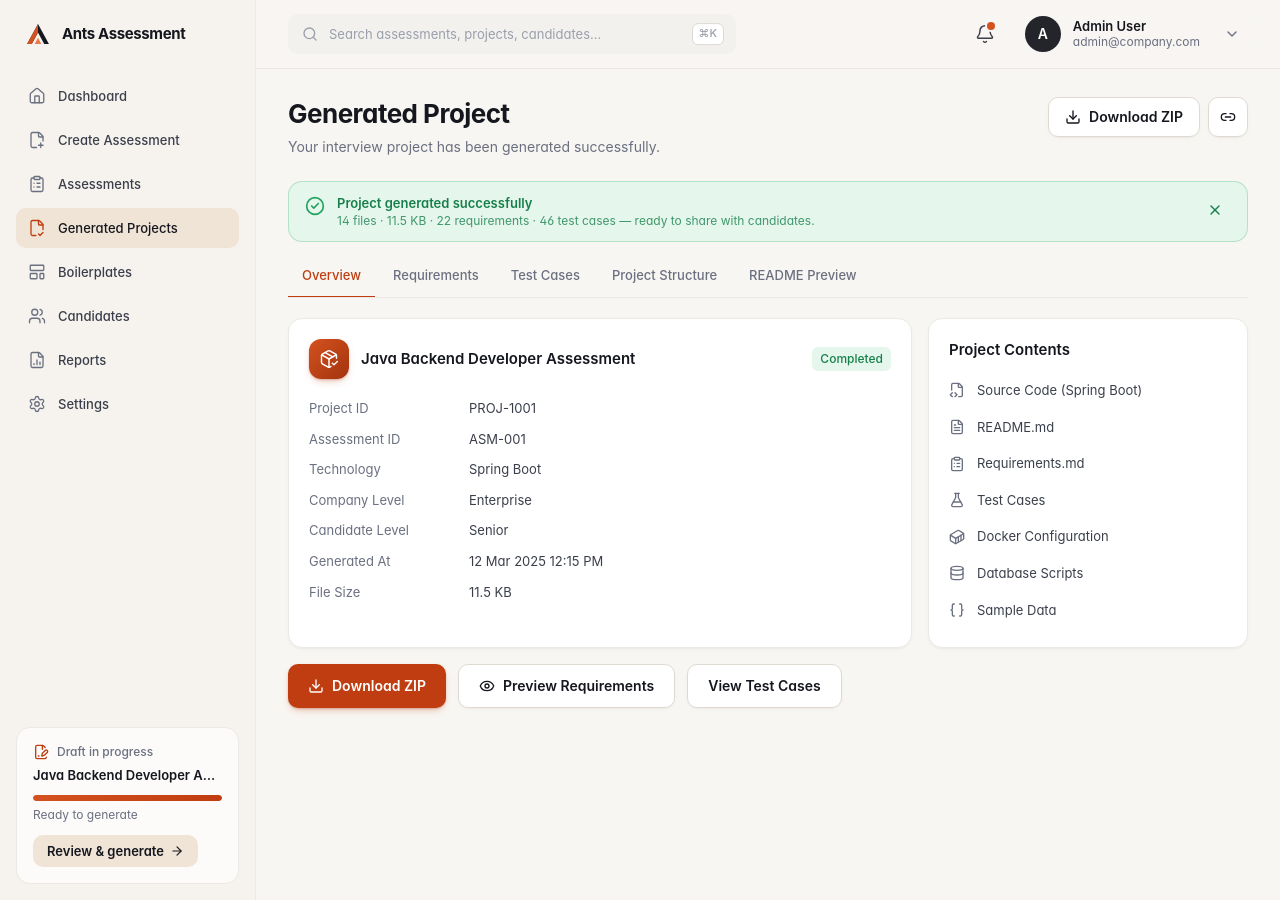
it: Generated Project Details › shows the success banner right after generation
Check: the message shows "Project generated successfully", box left=337, top=195, right=532, bottom=211
Step 1. Click the button named "Dismiss" → (1215, 210), box left=1199, top=194, right=1231, bottom=226
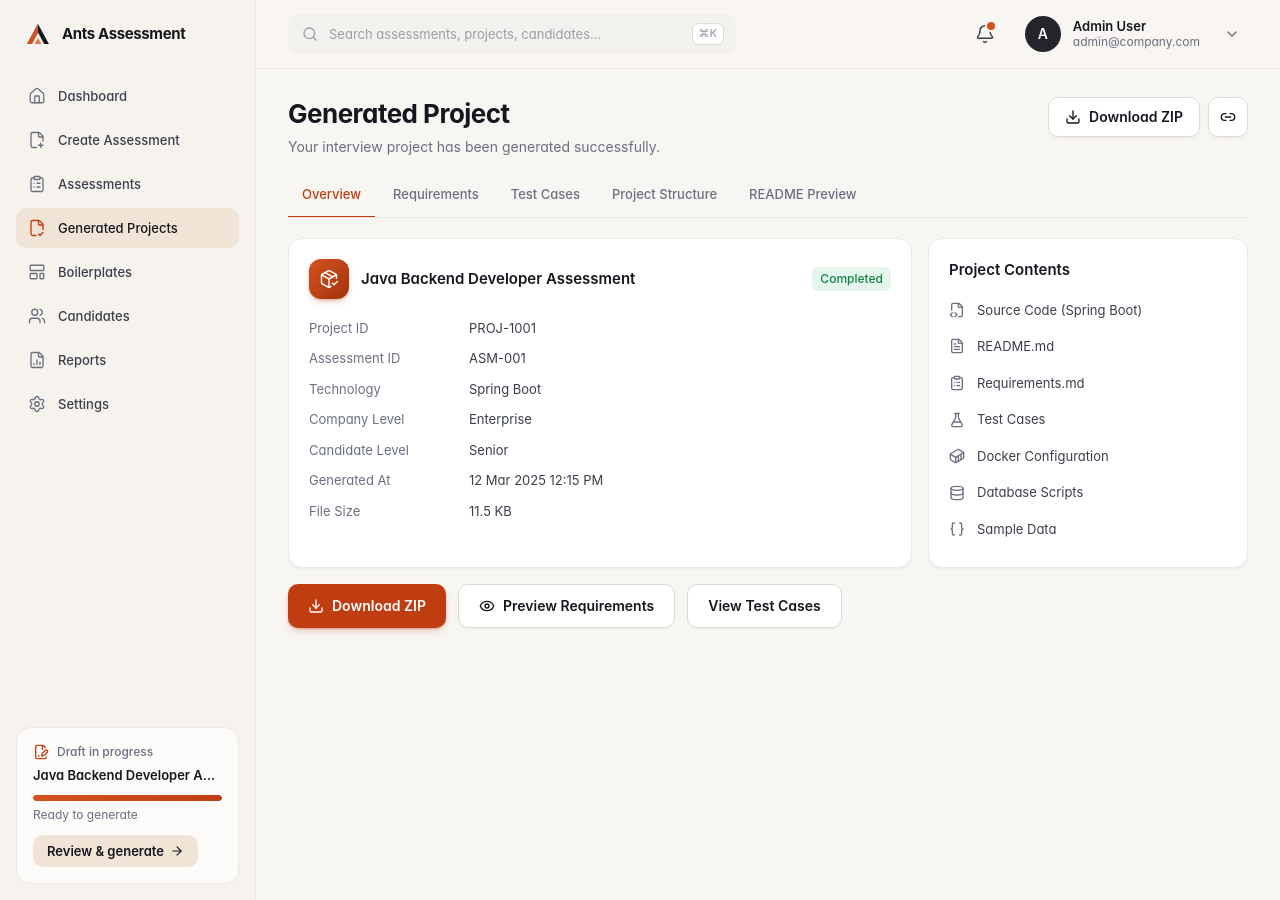
Check: the text "Project generated successfully" is gone
